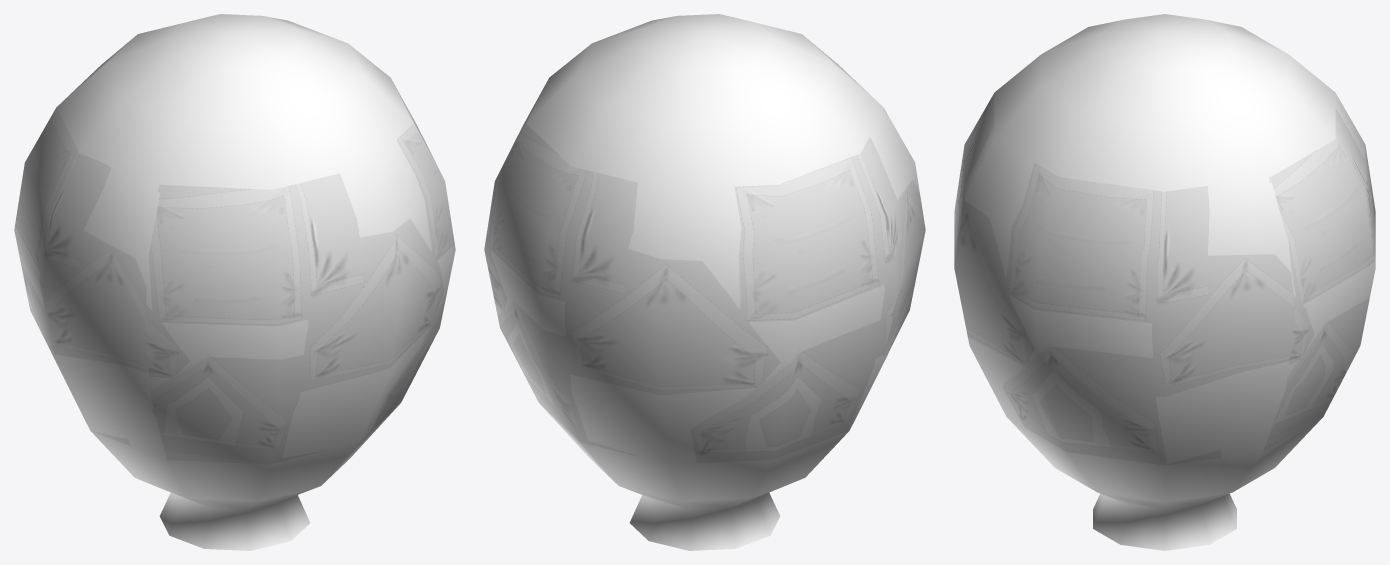
File: Ballon.fbx
3 views of the same model, side by side, from view 1: azimuth 30°, elevation 25°; view 2: azimuth 150°, elevation 25°; view 3: azimuth 270°, elevation 25° (orthographic).
Parts seen in each view (by area): view 1: Ballon; view 2: Ballon; view 3: Ballon.
Boxes of the visible parts, x1,y1,x2,y2 form: Ballon: [14, 14, 455, 550]; Ballon: [484, 14, 925, 550]; Ballon: [954, 14, 1375, 550].
Bounding box in the file's own units: 7.99 × 9.89 × 7.6.
